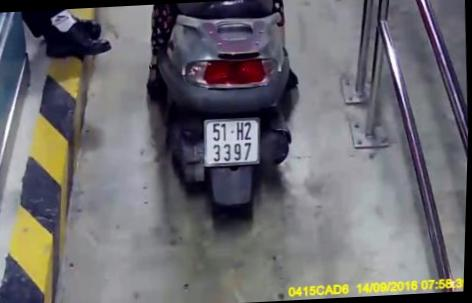LP: (200, 115, 261, 165)
